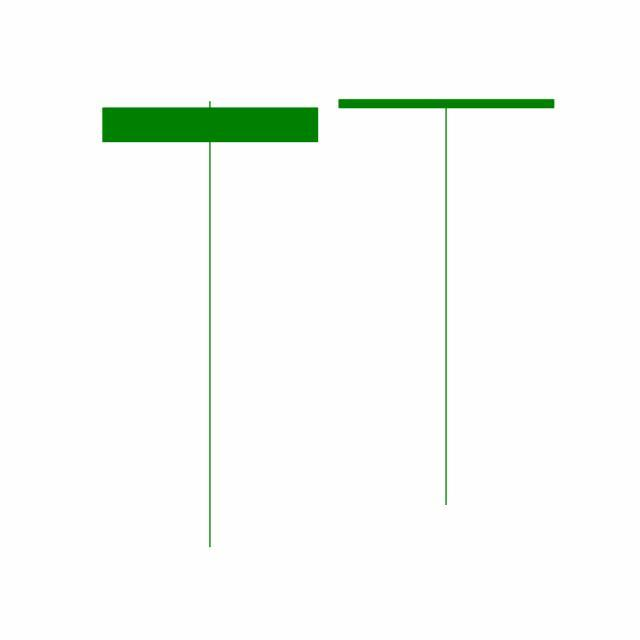Dragonfly Doji: (328, 96, 566, 510)
